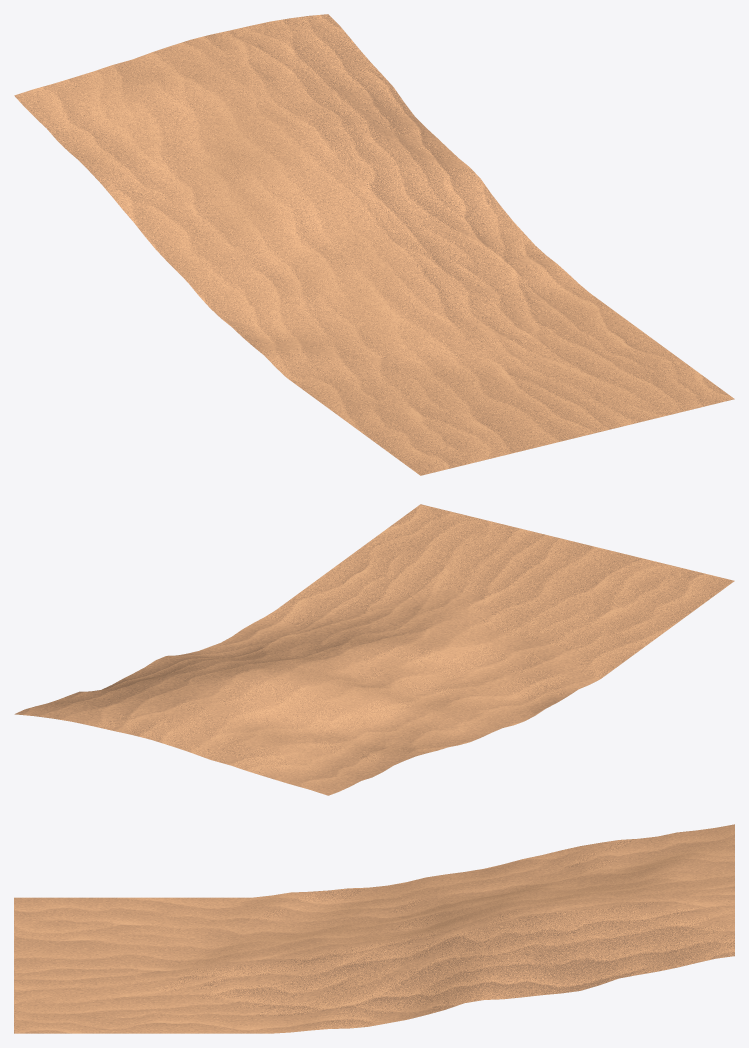
File: map_2.gltf
The picture shows the model from 3 angles, top to bottom: view 1: azimuth 30°, elevation 25°; view 2: azimuth 150°, elevation 25°; view 3: azimuth 270°, elevation 25°; orthographic projection. The views are drawn at different scales.
Parts seen in each view (by area): view 1: landscape3; view 2: landscape3; view 3: landscape3.
Boxes of the visible parts, x1,y1,x2,y2 form: landscape3: (14,14,734,475); landscape3: (14,504,734,795); landscape3: (14,824,734,1033).
Size of the model in its own units: 9.38 by 2.72 by 21.
1 material, 1 textured.
